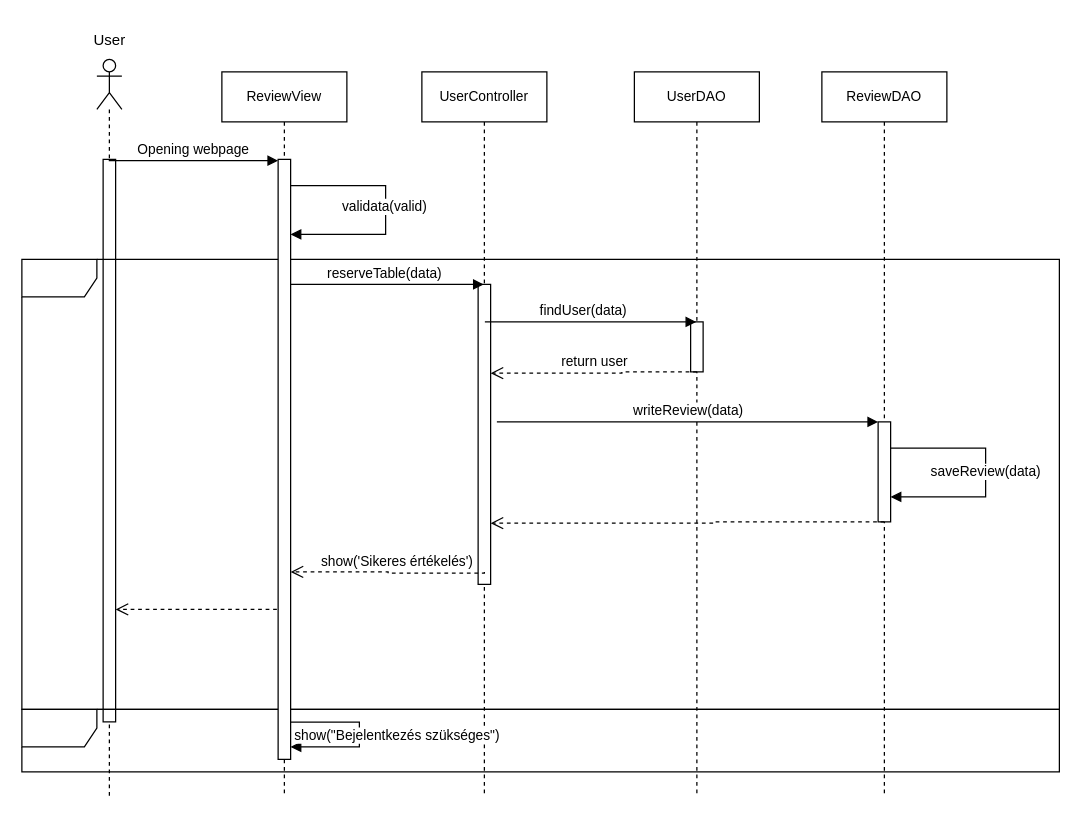
Image size: 1081x819. Some labels were removed from this diagram. The shapes that lost their labels are listed below. From the top down, each one's box as (x1, y1, x2, y2) in pixels, then its label:
(21, 258, 1059, 709): Valid data
(21, 708, 1059, 772): Invalid data
